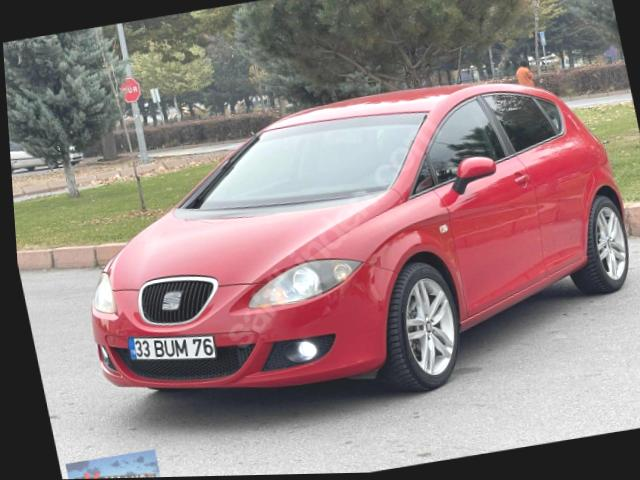plaka: (128, 335, 216, 360)
